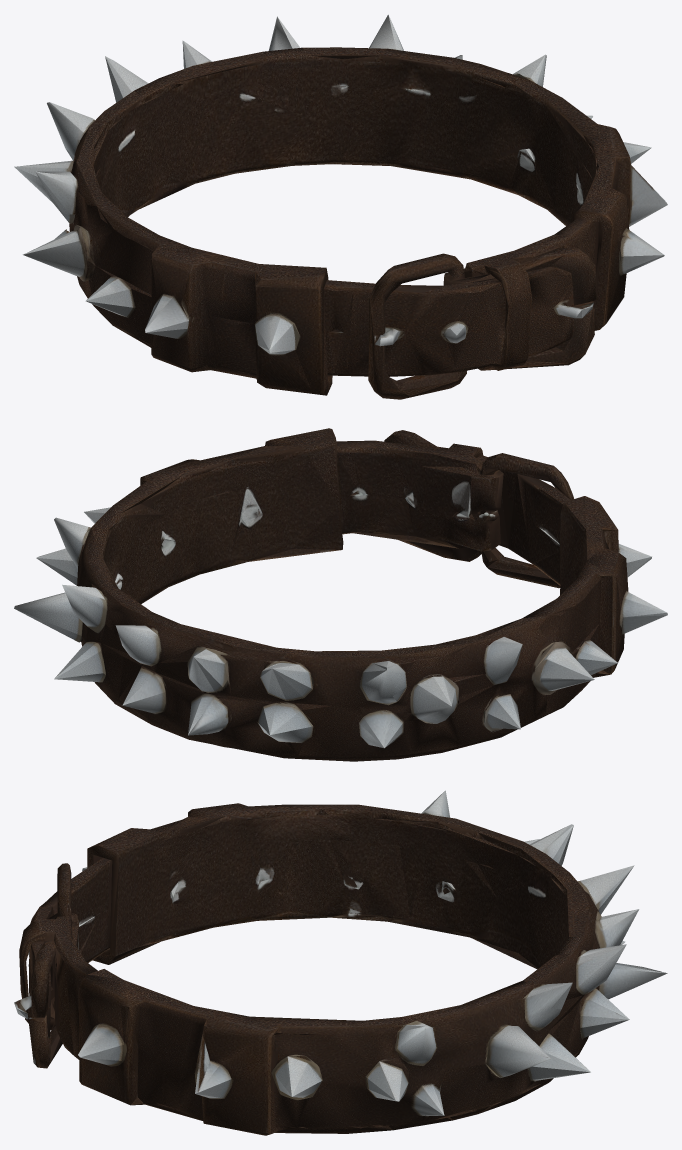
The model's file is Collier.fbx.
3 views of the same model, one above another, from view 1: azimuth 30°, elevation 25°; view 2: azimuth 150°, elevation 25°; view 3: azimuth 270°, elevation 25° (orthographic). The views are drawn at different scales.
Visible parts, largest first — view 1: Mesh_0; view 2: Mesh_0; view 3: Mesh_0.
Boxes of the visible parts, box(x1,y1,x2,y2) form: Mesh_0: box(14, 14, 667, 399); Mesh_0: box(14, 428, 667, 761); Mesh_0: box(14, 790, 667, 1135).
Size of the model in its own units: 190 by 41.28 by 188.
Materials: 1 (1 with a texture image).
